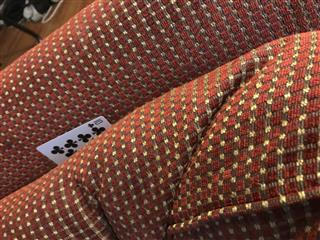TenOfClubs: (35, 114, 111, 167)
